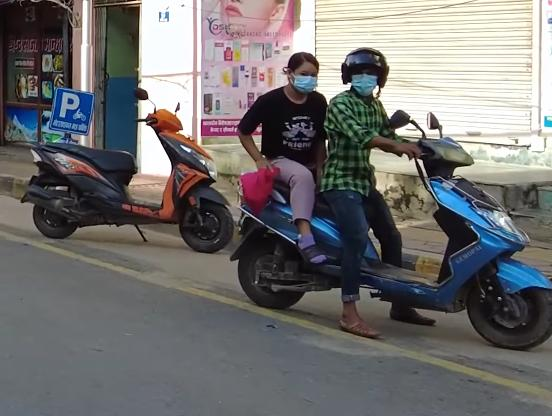scooter: (234, 121, 552, 351), (22, 100, 237, 254)
